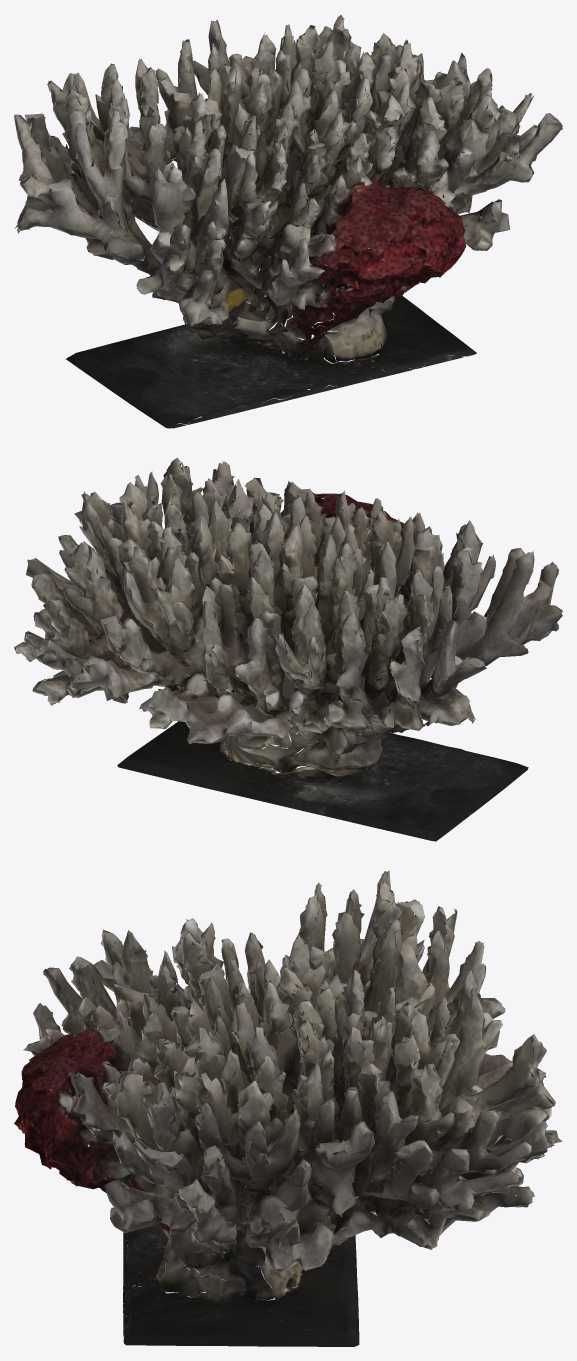
The model's file is Secale_LOD0.fbx.
The picture shows the model from 3 angles, top to bottom: view 1: azimuth 30°, elevation 25°; view 2: azimuth 150°, elevation 25°; view 3: azimuth 270°, elevation 25°; orthographic projection. The views are drawn at different scales.
Visible parts, largest first — view 1: Secale_LOD0; view 2: Secale_LOD0; view 3: Secale_LOD0.
Boxes of the visible parts, x1,y1,x2,y2 form: Secale_LOD0: [14, 15, 562, 428]; Secale_LOD0: [14, 457, 562, 841]; Secale_LOD0: [14, 870, 562, 1346].
Size of the model in its own units: 99.99 by 51.45 by 86.08.
1 material, 1 textured.
